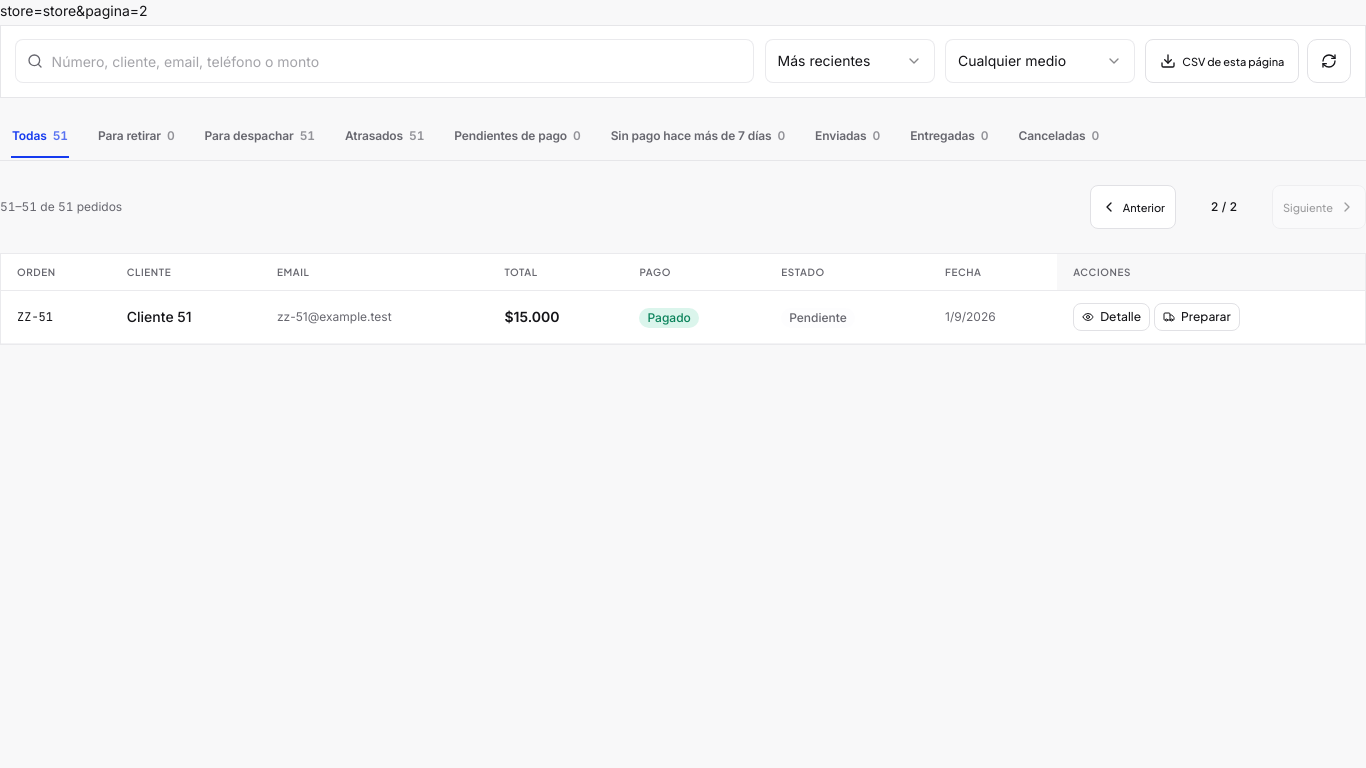
Test: interaccion de la cola › pagina por URL, conserva store y reinicia pagina al cambiar una vista
Expected: the text "51–51 de 51 pedidos" is shown, [0,199,122,215]
Expected: the button with aria-label "Ir a la página siguiente" is disabled, [1272,185,1365,229]
Click the button "Para despachar51" at (260, 136), box [193,114,327,158]
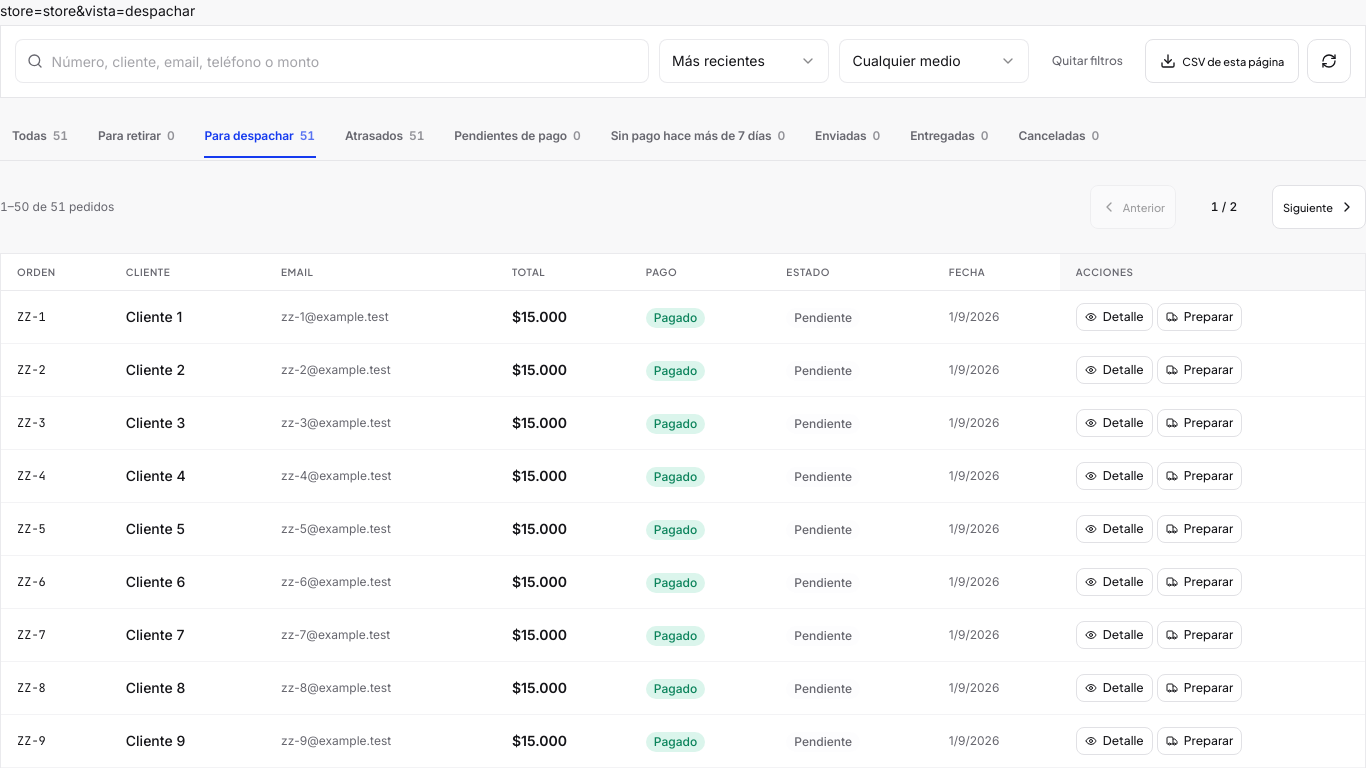
Now the text with test id "params" reads "store=store&vista=despachar", box [0,2,195,19]
Now the text "1–50 de 51 pedidos" is shown, box [0,199,114,215]
Click the button with aria-label "Ir a la página siguiente" at (1319, 207), box [1272,185,1365,229]
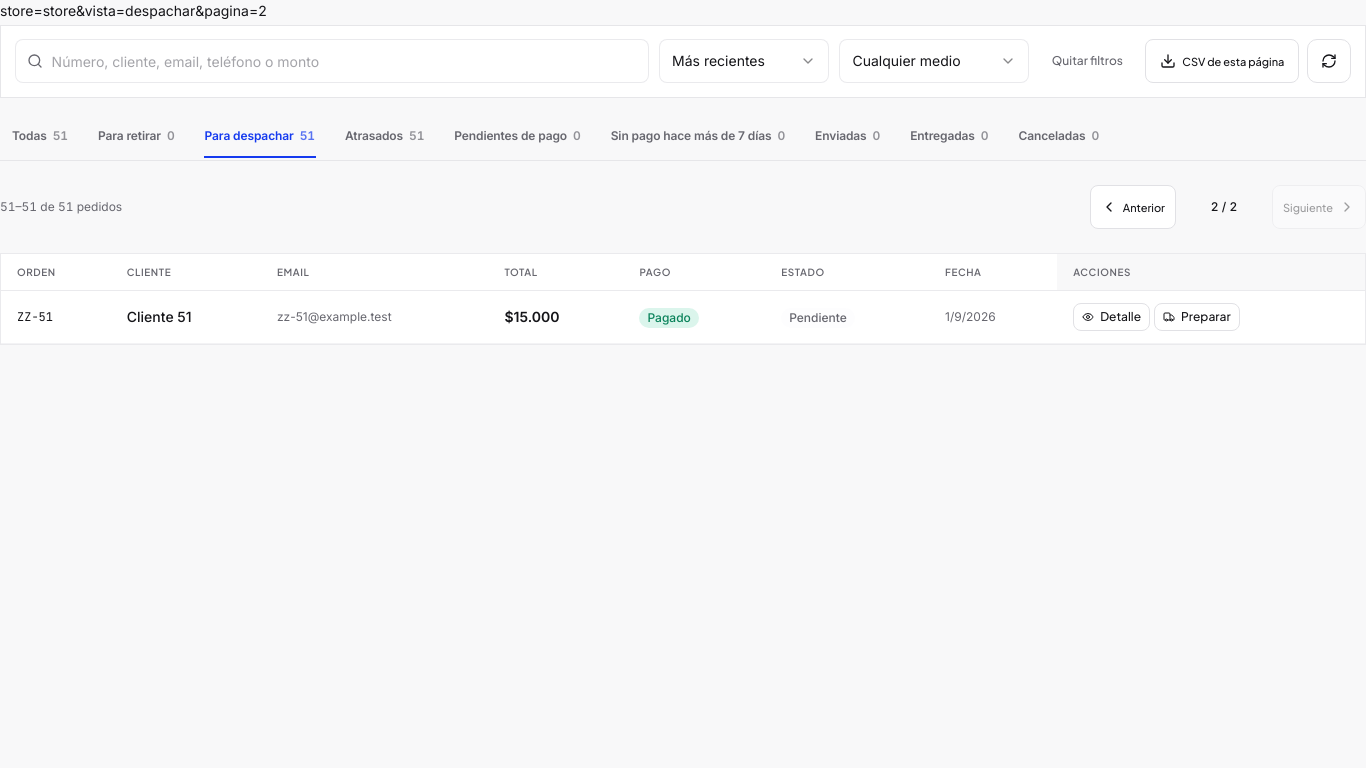
Expected: the button "CSV de esta página" is enabled, [1145,39,1299,83]
Now the text "51–51 de 51 pedidos" is shown, box [0,199,122,215]
Now the text with test id "params" shows "pagina=2", box [0,2,267,19]
